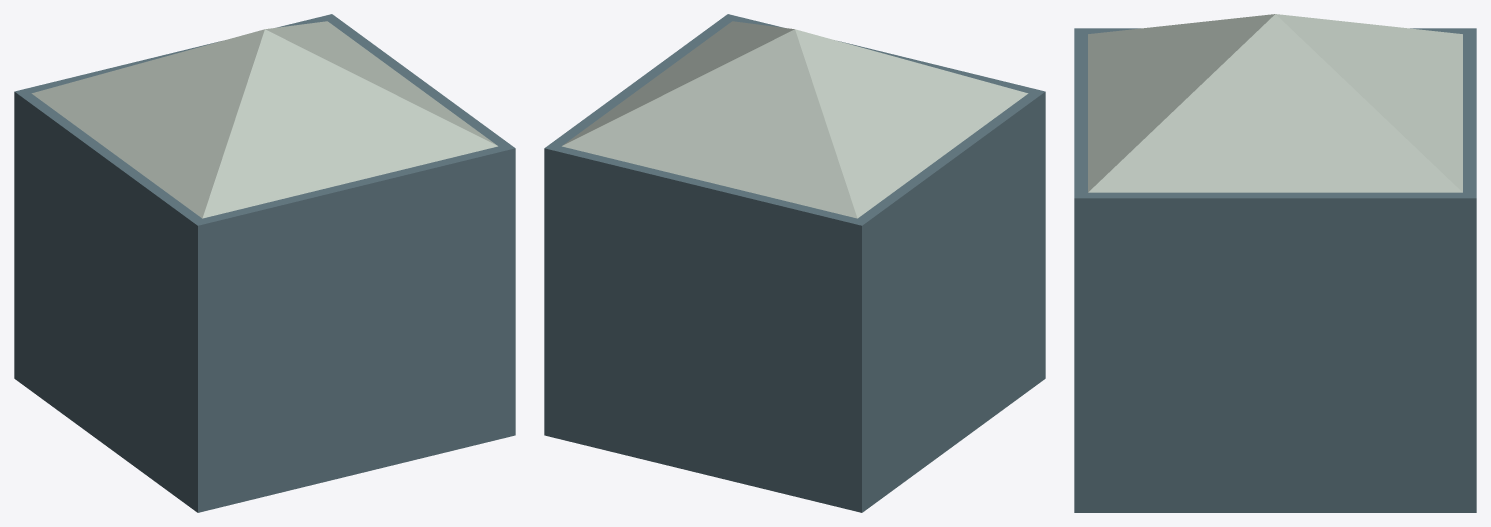
The model's file is edging_end.glb.
3 views of the same model, side by side, from view 1: azimuth 30°, elevation 25°; view 2: azimuth 150°, elevation 25°; view 3: azimuth 270°, elevation 25° (orthographic). The views are drawn at different scales.
Visible parts, largest first — view 1: EdgingEnd / Stone, EdgingEnd / Coping; view 2: EdgingEnd / Stone, EdgingEnd / Coping; view 3: EdgingEnd / Stone, EdgingEnd / Coping.
Boxes of the visible parts, x1,y1,x2,y2 form: EdgingEnd / Stone: (14, 14, 515, 512); EdgingEnd / Coping: (31, 21, 497, 218); EdgingEnd / Stone: (544, 14, 1045, 512); EdgingEnd / Coping: (562, 21, 1028, 218); EdgingEnd / Stone: (1074, 28, 1476, 512); EdgingEnd / Coping: (1088, 14, 1462, 192).
Bounding box in the file's own units: 0.22 × 0.25 × 0.22.
